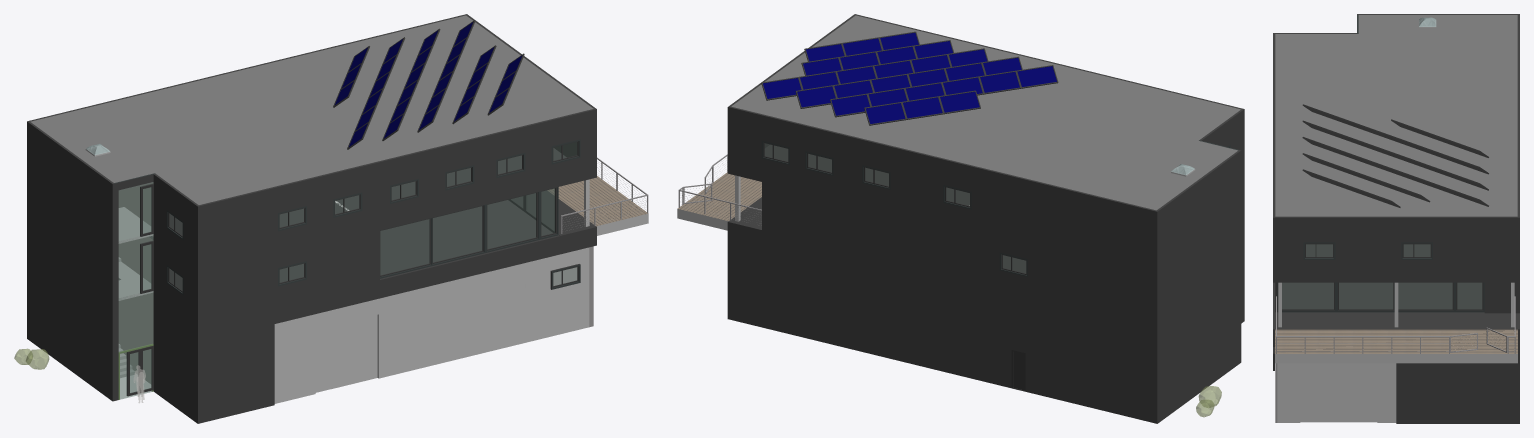
The model's file is transped.glb.
The picture shows the model from 3 angles, left to right: view 1: azimuth 30°, elevation 25°; view 2: azimuth 150°, elevation 25°; view 3: azimuth 270°, elevation 25°; orthographic projection. The views are drawn at different scales.
Visible parts, largest first — view 1: transped_architecture; view 2: transped_architecture; view 3: transped_architecture.
Boxes of the visible parts, left/top/right/bottom form: transped_architecture: left=14, top=14, right=648, bottom=423; transped_architecture: left=677, top=14, right=1244, bottom=423; transped_architecture: left=1273, top=14, right=1519, bottom=423.
Size of the model in its own units: 30.01 by 12.73 by 12.84.
Materials: 19 (1 with a texture image).
